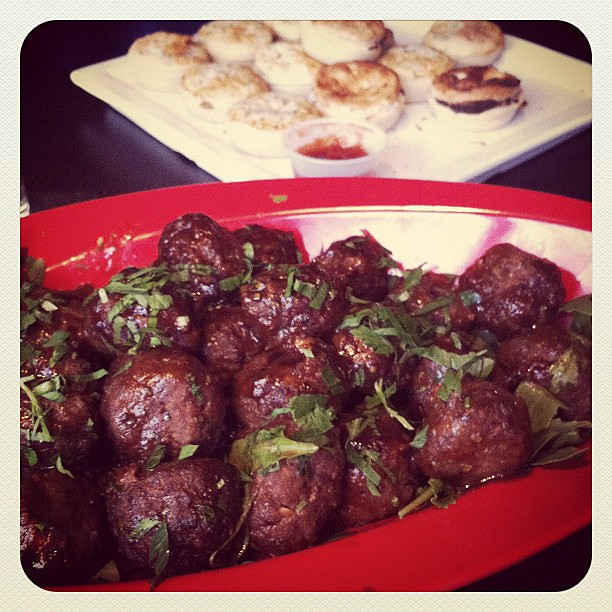meatballs: (29, 230, 544, 483)
